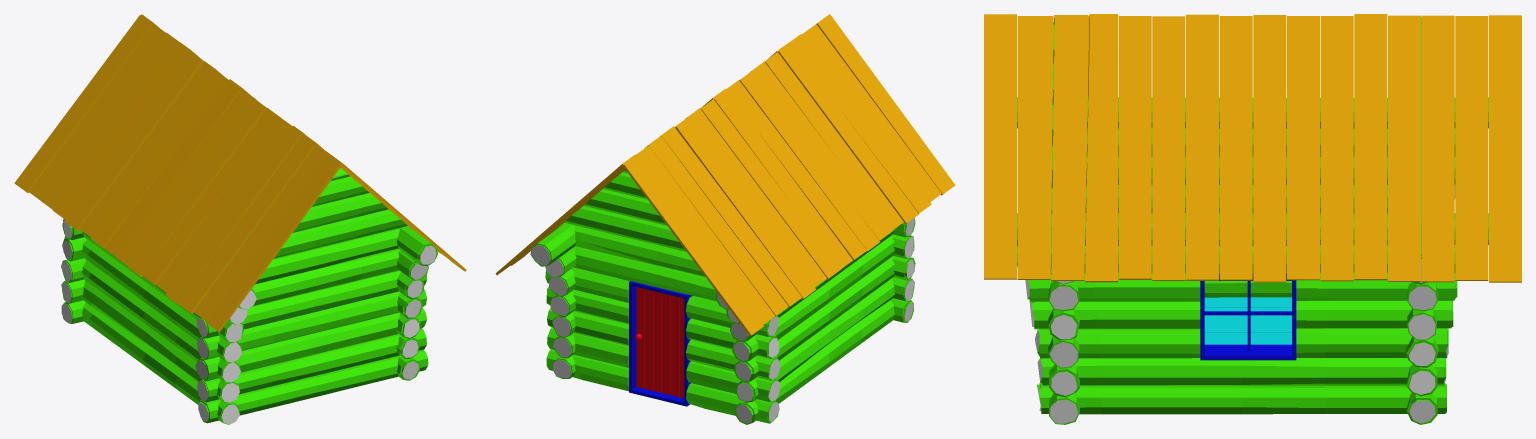
File: Cabin2.fbx
3 views of the same model, side by side, from view 1: azimuth 30°, elevation 25°; view 2: azimuth 150°, elevation 25°; view 3: azimuth 270°, elevation 25° (orthographic). The views are drawn at different scales.
Parts seen in each view (by area): view 1: Dach, Wand C, Wand B, Wand D, Wand B.002, Wand D.001, Wand A, Wand C.001, Wand A.001; view 2: Dach, Wand A, Wand B, Tür, Wand D, Türrahmen, Wand D.001, Wand C, Wand B.001, Wand A.001, Wand C.001; view 3: Dach, Wand D, Boden, Wand B, Fenster, Wand C.001, Wand A.001, Wand C, Wand A.
Part boxes in pixels (x1=…): Dach: x1=14, y1=14, x2=466, y2=332; Wand C: x1=196, y1=168, x2=428, y2=423; Wand B: x1=64, y1=232, x2=256, y2=424; Wand D: x1=396, y1=226, x2=437, y2=380; Wand B.002: x1=221, y1=290, x2=256, y2=424; Wand D.001: x1=402, y1=246, x2=436, y2=379; Wand A: x1=61, y1=219, x2=86, y2=323; Wand C.001: x1=195, y1=318, x2=208, y2=421; Wand A.001: x1=61, y1=220, x2=72, y2=322; Dach: x1=495, y1=14, x2=955, y2=336; Wand A: x1=545, y1=137, x2=779, y2=423; Wand B: x1=715, y1=229, x2=911, y2=424; Tür: x1=635, y1=287, x2=684, y2=398; Wand D: x1=530, y1=223, x2=576, y2=378; Türrahmen: x1=629, y1=281, x2=692, y2=406; Wand D.001: x1=530, y1=245, x2=571, y2=377; Wand C: x1=891, y1=220, x2=915, y2=322; Wand B.001: x1=717, y1=293, x2=752, y2=423; Wand A.001: x1=767, y1=316, x2=780, y2=422; Wand C.001: x1=904, y1=218, x2=914, y2=321; Dach: x1=984, y1=14, x2=1521, y2=282; Wand D: x1=1017, y1=213, x2=1488, y2=414; Boden: x1=1204, y1=297, x2=1291, y2=344; Wand B: x1=1017, y1=97, x2=1488, y2=297; Fenster: x1=1200, y1=273, x2=1296, y2=360; Wand C.001: x1=1050, y1=267, x2=1078, y2=423; Wand A.001: x1=1408, y1=259, x2=1436, y2=423; Wand C: x1=1048, y1=22, x2=1079, y2=424; Wand A: x1=1406, y1=16, x2=1438, y2=424.
Size of the model in its own units: 888 by 862 by 1227.
